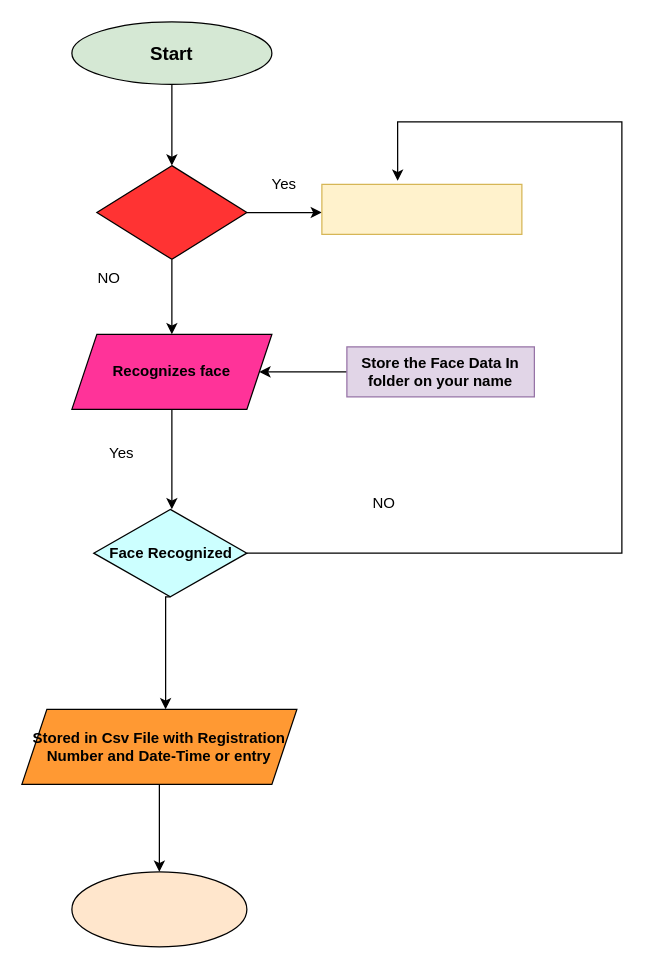
The diagram is 654 pixels wide and 969 high, and some of its shapes have lost their labels. The box of each missing label's shape, as (x1, y1, x2, y2) in pixels:
End: (71, 871, 247, 947)
Give Your Photography: (321, 183, 522, 234)
New User?: (96, 164, 247, 259)
